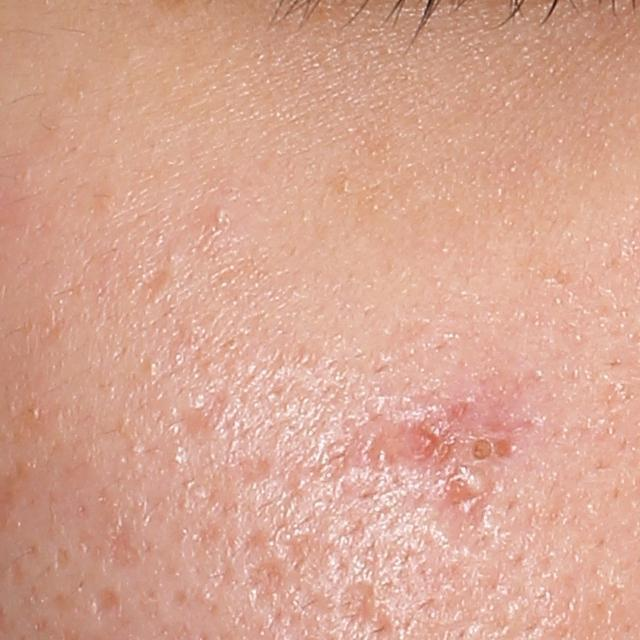atrophic_scar: (106, 509, 143, 575), (245, 557, 286, 611), (446, 480, 482, 537), (133, 265, 176, 305), (232, 454, 275, 487), (90, 583, 122, 621)
comedo: (464, 430, 499, 464)
